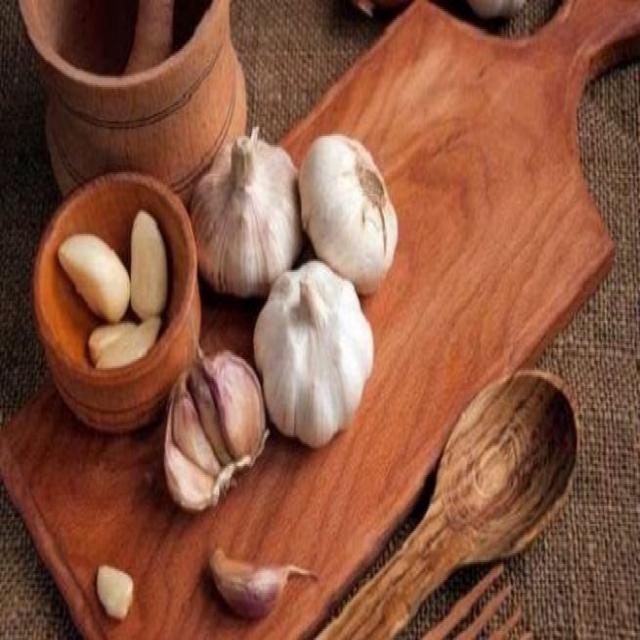garlic: (258, 275, 376, 450), (195, 139, 298, 284), (167, 360, 256, 513), (300, 135, 400, 264), (208, 544, 294, 623)
